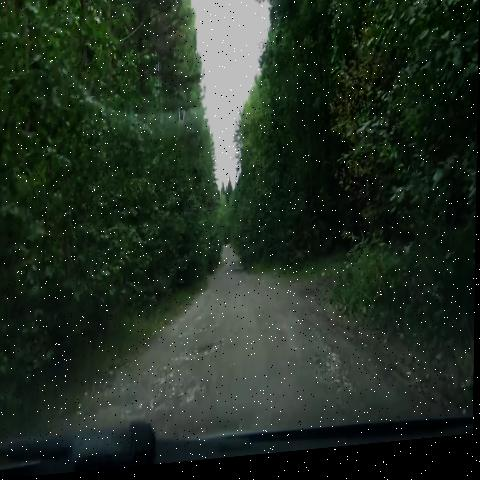pothole: (140, 368, 212, 432), (300, 333, 356, 411), (177, 334, 233, 375), (227, 268, 255, 286)
